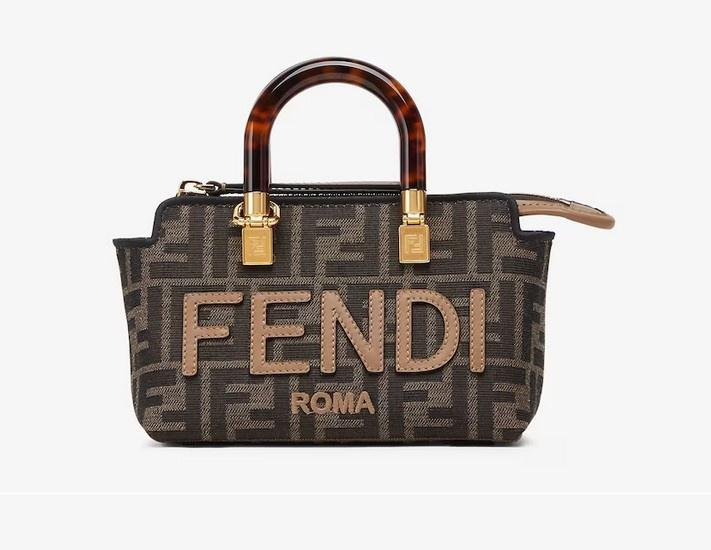FENDI: (181, 288, 486, 376)
